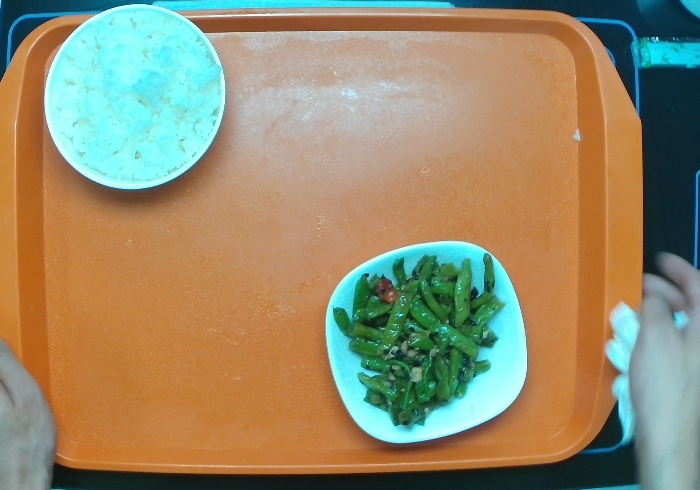ZNLD-Fan_Wan: (42, 2, 229, 192)
ZNLD-Si_Fang_Wan: (322, 237, 531, 445)
